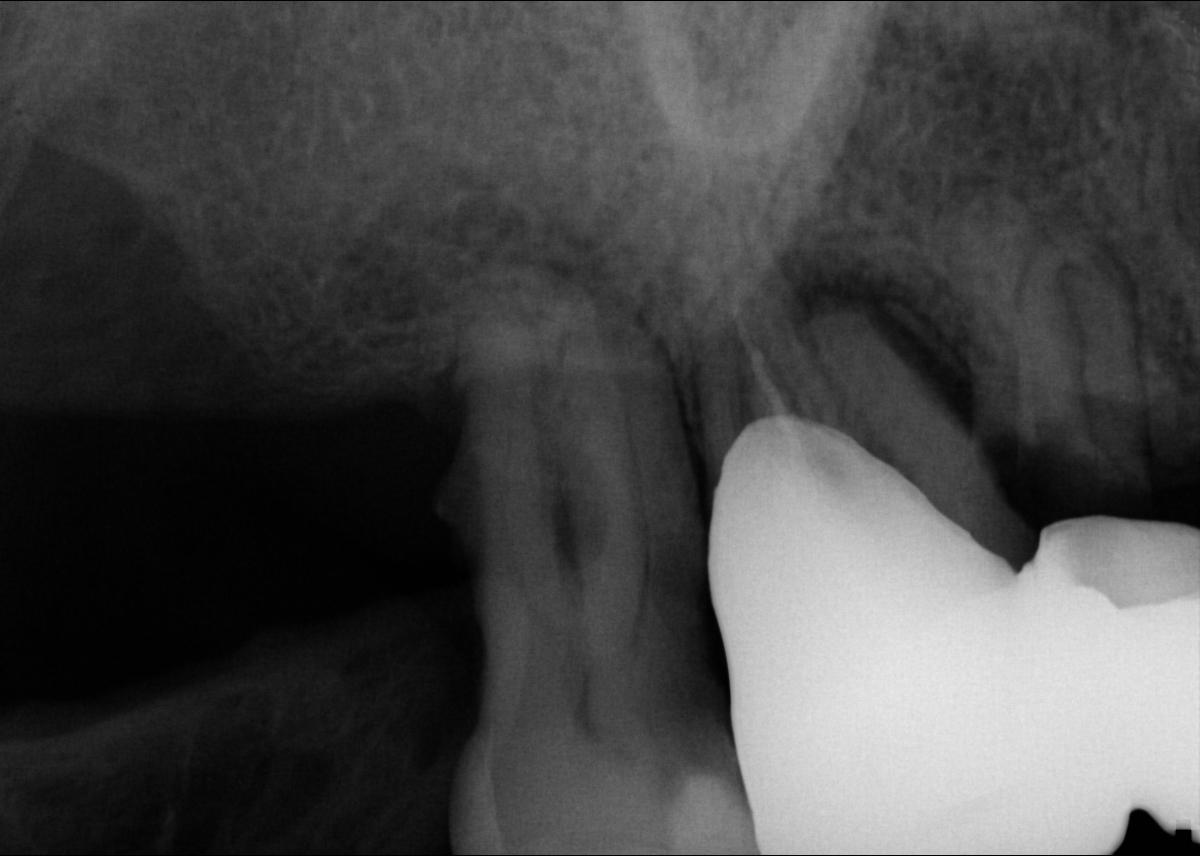Dental Caries: (779, 252, 975, 430)
